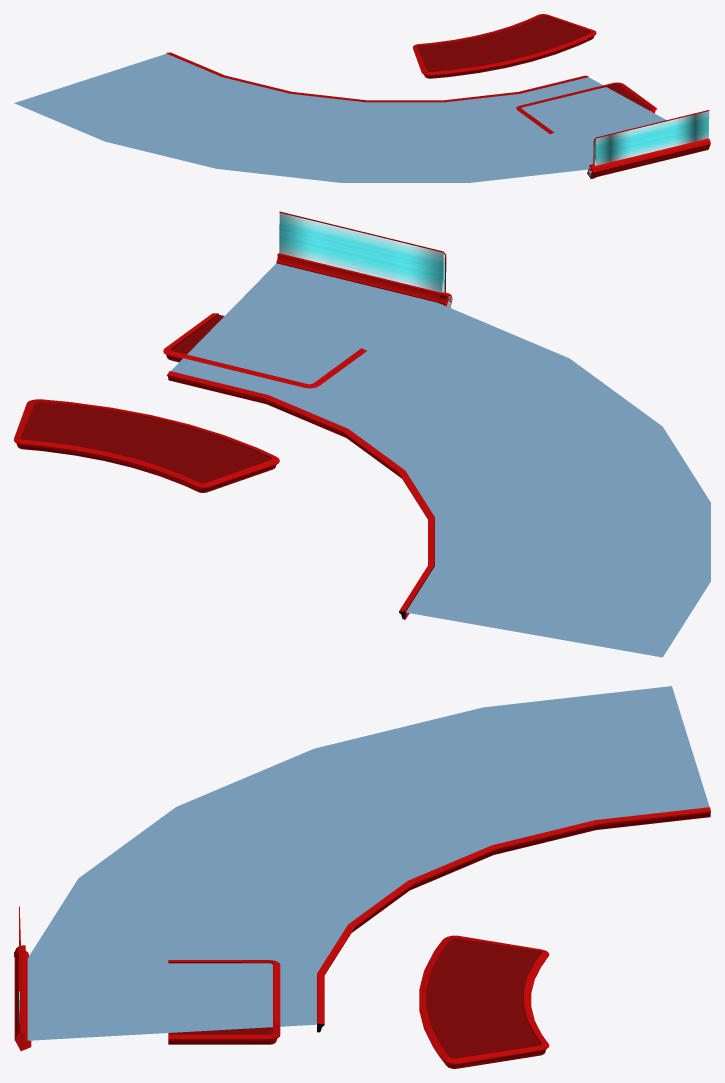
Rendered from room_Lab_Circle.fbx.
3 views of the same model, one above another, from view 1: azimuth 30°, elevation 25°; view 2: azimuth 150°, elevation 25°; view 3: azimuth 270°, elevation 25° (orthographic). The views are drawn at different scales.
Parts seen in each view (by area): view 1: Cricle_FloorBase, Circle_Platform_Inner, Path_Circle_Outter, Circle_Platform_Quad, Path_Circle_Outte_Path; view 2: Cricle_FloorBase, Circle_Platform_Inner, Path_Circle_Outter, Circle_Platform_Quad, Path_Circle_Outte_Path; view 3: Cricle_FloorBase, Circle_Platform_Inner, Circle_Platform_Quad, Path_Circle_Outte_Path, Path_Circle_Outter.
Boxes of the visible parts, x1,y1,x2,y2 form: Cricle_FloorBase: (14,53,666,182); Circle_Platform_Inner: (413,14,596,78); Path_Circle_Outter: (596,110,710,177); Circle_Platform_Quad: (166,52,588,102); Path_Circle_Outte_Path: (516,82,656,134); Cricle_FloorBase: (171,263,710,657); Circle_Platform_Inner: (14,399,279,492); Path_Circle_Outter: (276,211,442,302); Circle_Platform_Quad: (167,371,434,619); Path_Circle_Outte_Path: (163,313,366,388); Cricle_FloorBase: (27,686,709,1040); Circle_Platform_Inner: (419,935,549,1068); Circle_Platform_Quad: (317,807,710,1032); Path_Circle_Outte_Path: (168,960,280,1044); Path_Circle_Outter: (14,907,31,1051).
Bounding box in the file's own units: 940 × 71.58 × 734.
